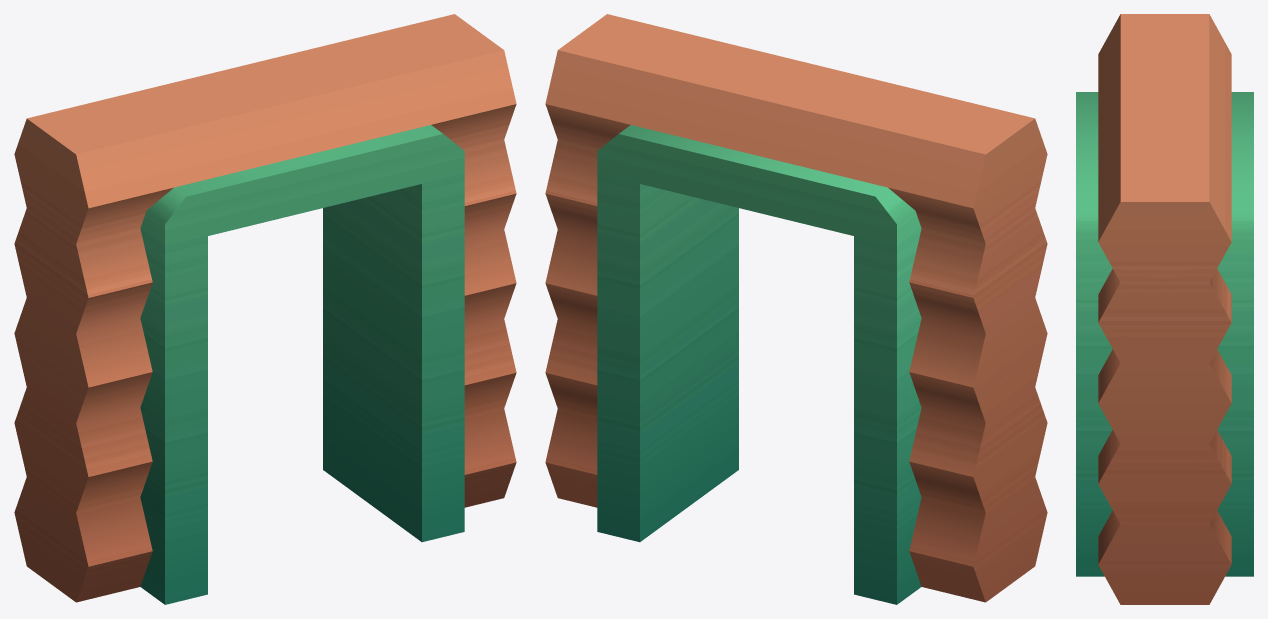
Rendered from cabin-doorway.glb.
The picture shows the model from 3 angles, left to right: view 1: azimuth 30°, elevation 25°; view 2: azimuth 150°, elevation 25°; view 3: azimuth 270°, elevation 25°; orthographic projection. The views are drawn at different scales.
Visible parts, largest first — view 1: cabin-doorway; view 2: cabin-doorway; view 3: cabin-doorway.
Part boxes in pixels (x1,y1,x2,y2): cabin-doorway: (14,14,516,604); cabin-doorway: (545,14,1047,604); cabin-doorway: (1076,14,1253,604).
Bounding box in the file's own units: 1 × 1 × 0.3999.
1 material, 1 textured.
